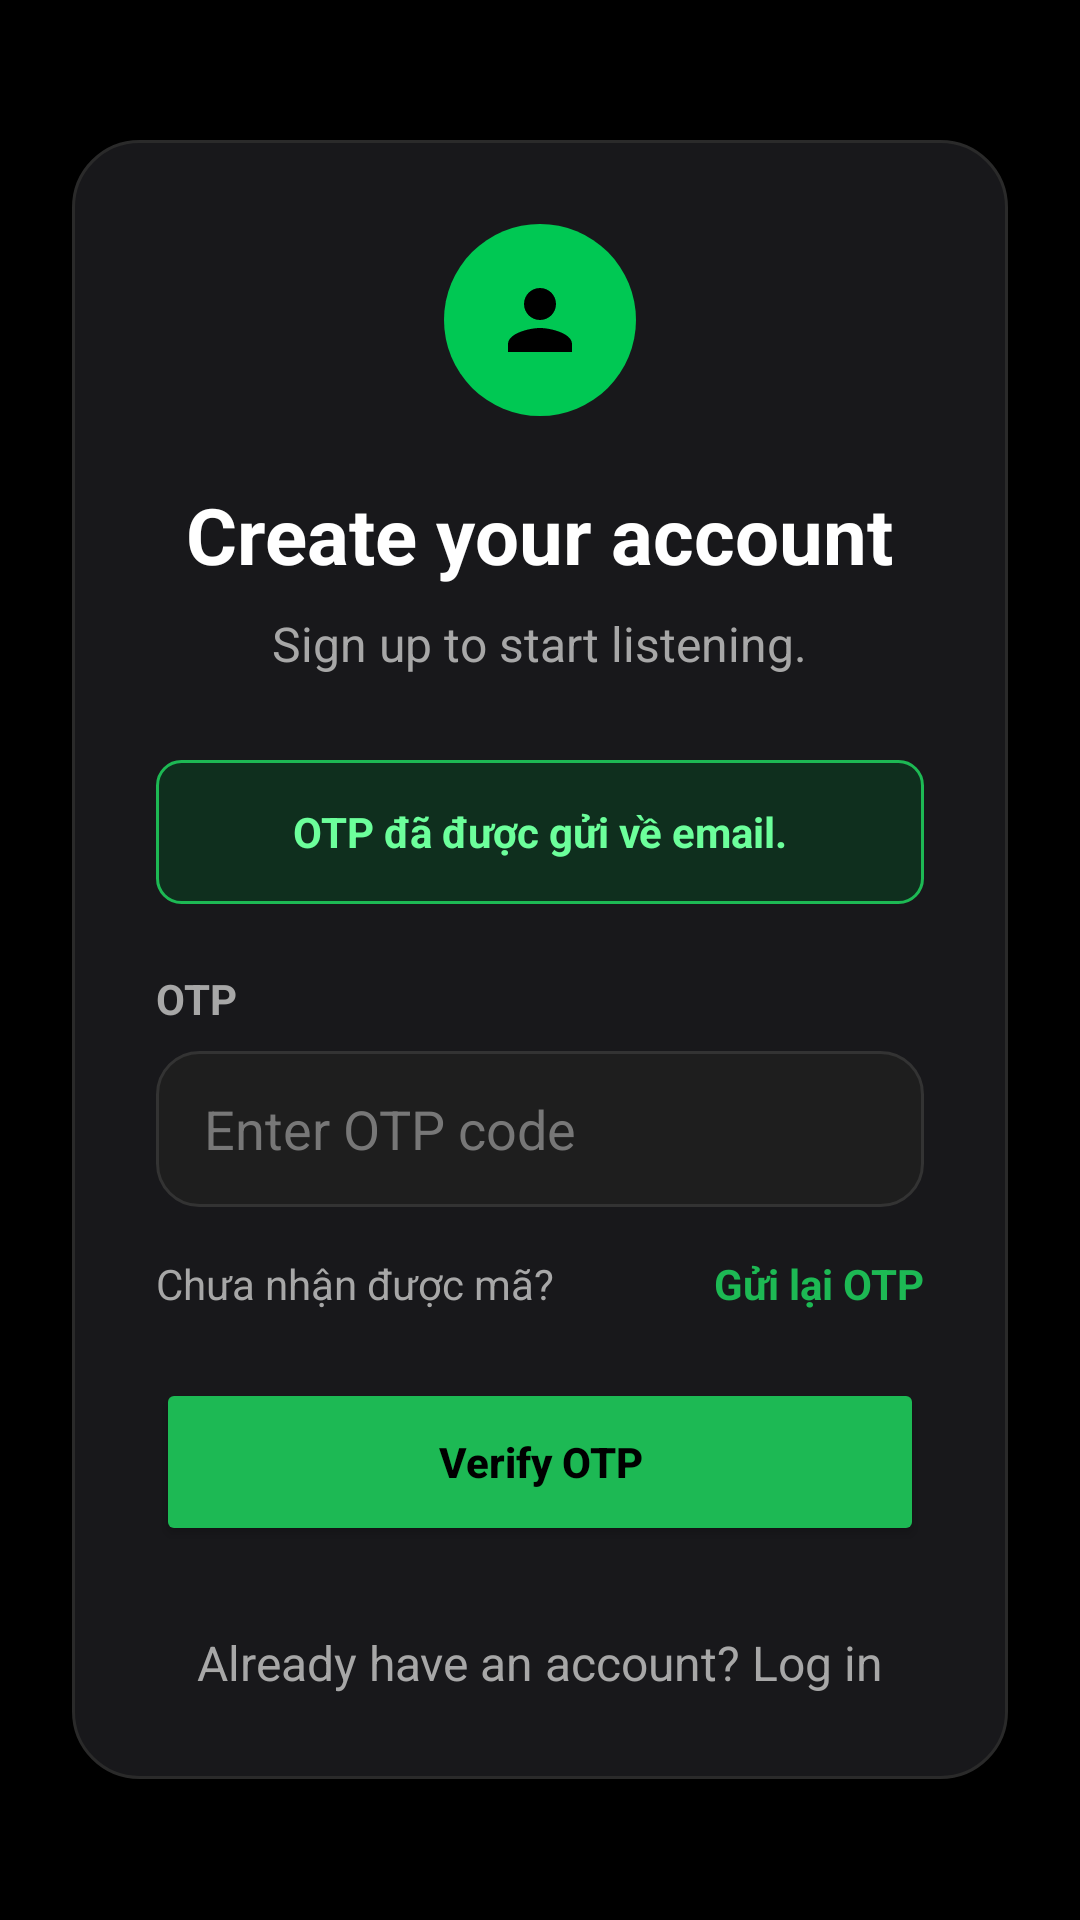

Screen size 1080w x 1920h. Icon name, then its center in pixels as (x=x, y=y):
user: (x=540, y=320)
